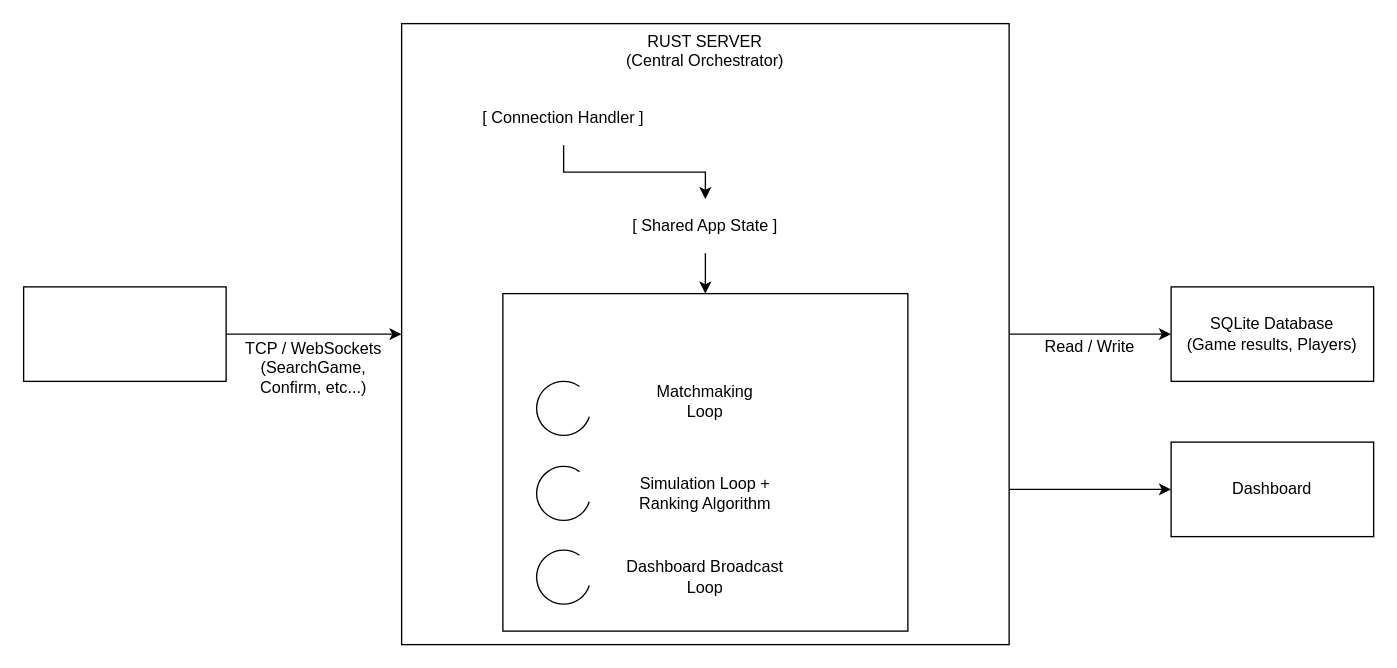
Image size: 1397x668. Some labels were removed from this diagram. Here are the shapes that lost their labels. From the top down, the box of each, then its label:
(22, 286, 226, 381): Simulator / Real Clients (Data Generation & Edge)
(502, 292, 908, 631): ASYNCHRONOUS LOOPS
